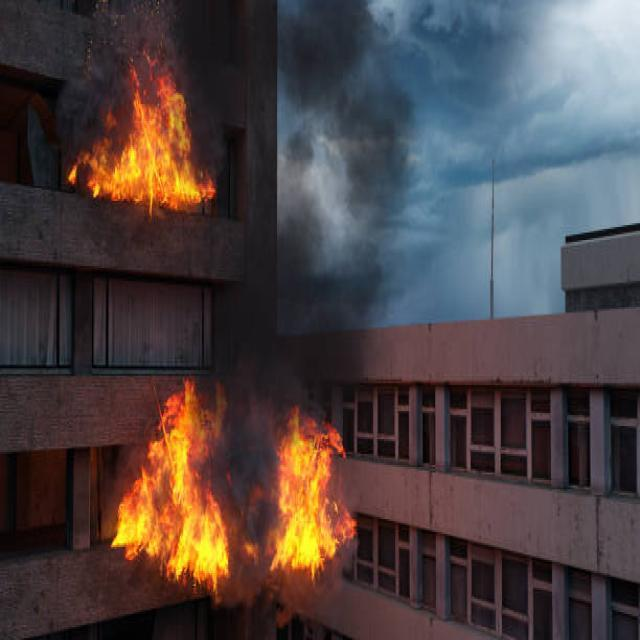Fire: (128, 382, 226, 588), (86, 100, 220, 212), (286, 408, 356, 581)
Smoke: (79, 3, 200, 135), (222, 370, 285, 572)
